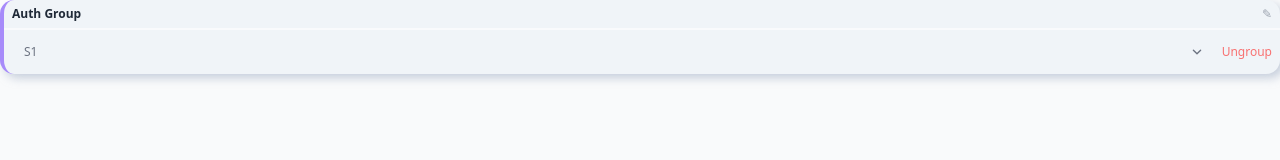
Test case: GroupCard › clicking rename button starts renaming and shows an input
The width and height of the screenshot is (1280, 160).
Use fireEvent.click to avoid dnd-kit pointer listener interference inside drag handle
What coordinates should you click on to do the following:
click the button titled "Rename group"
I would click on:
 (1267, 14)
Its box is [1262,6,1272,22].
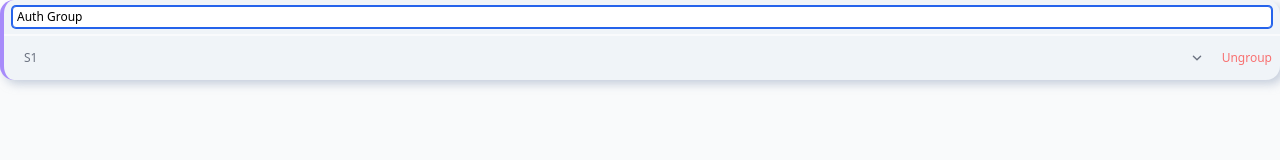
Now the field is shown, box [12,6,1272,28]
